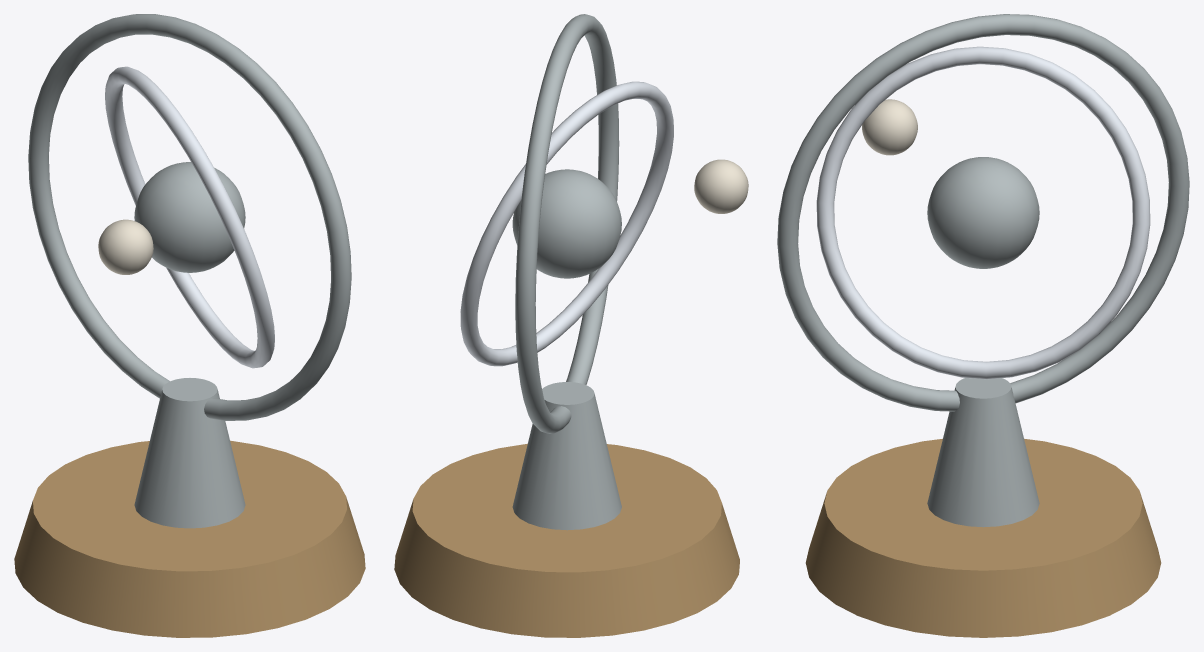
Rendered from atelier-decor-orrery-nordic.glb.
3 renders of one model, left to right at view 1: azimuth 30°, elevation 25°; view 2: azimuth 150°, elevation 25°; view 3: azimuth 270°, elevation 25°, orthographic. The views are drawn at different scales.
Bounding box in the file's own units: 0.152 × 0.2575 × 0.1763.
